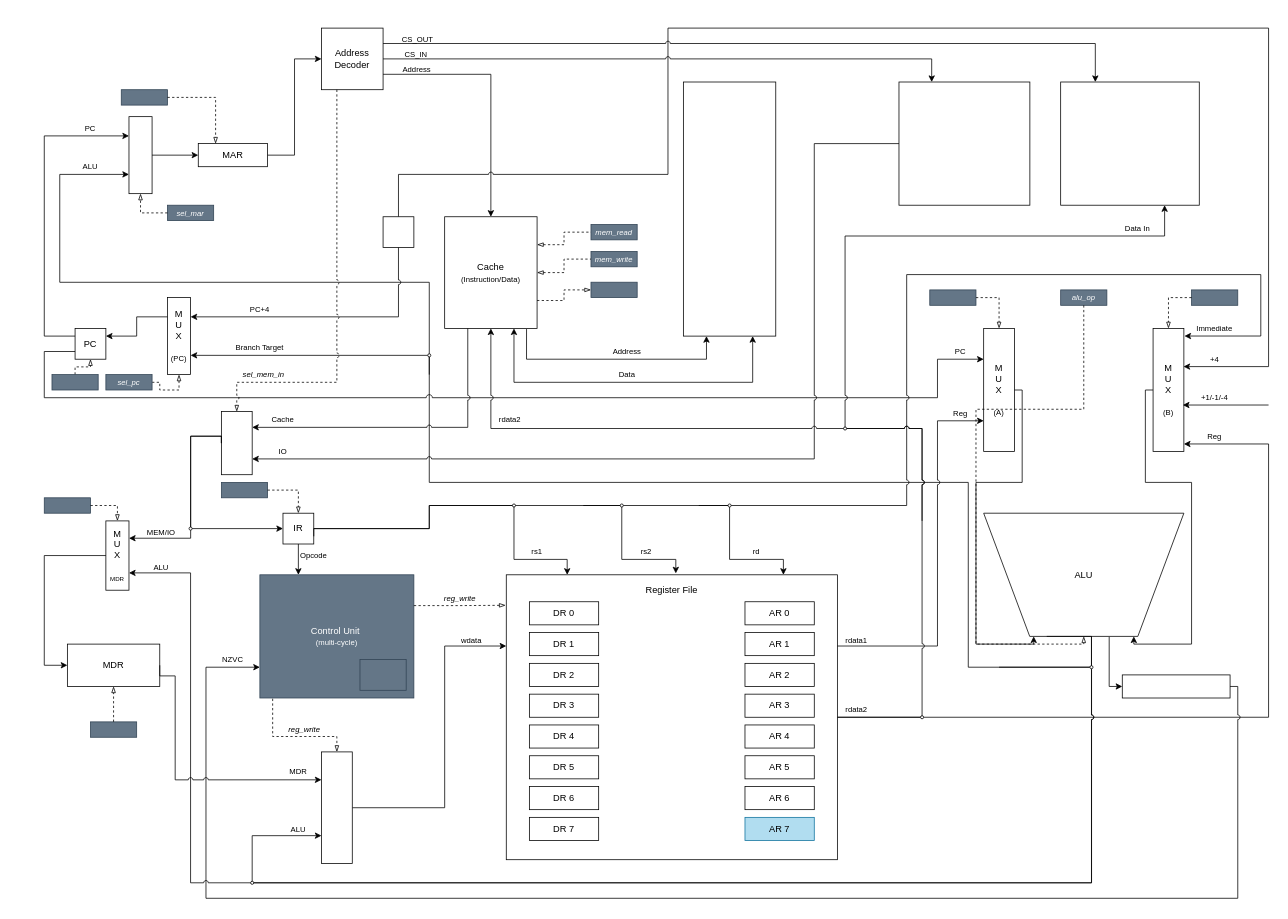
Image size: 1288x919. Some labels were removed from this diagram. Each missing label, with the centre of its shape:
"+4 (+n)" belongs at [398,232].
"IO (Input) 0x80" belongs at [964,143].
"IO (output) 0x84" belongs at [1129,143].
"latch_ir" belongs at [244,490].
"latch_mar" belongs at [144,97].
"latch_mdr" belongs at [113,729].
"latch_pc" belongs at [74,382].
"M U X (WB)" belongs at [336,807].
"M U X MAR" belongs at [140,155].
"M U X MEM_IN" belongs at [236,443].
"miss" belongs at [613,289].
"RAM (Neum)" belongs at [729,208].
"sel_mdr" belongs at [67,505].
"set_alu_a" belongs at [952,297].
"set_alu_b" belongs at [1214,297].
"SR (NZVC)" belongs at [1176,686].
"Step Counter" belongs at [382,674].
